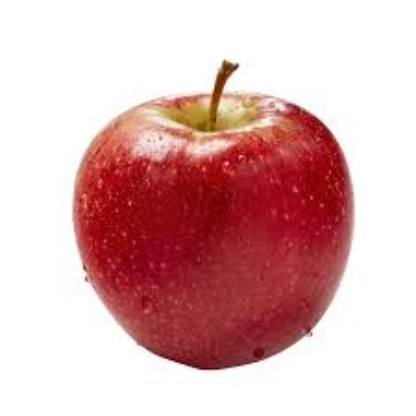tao: (82, 102, 352, 364)
